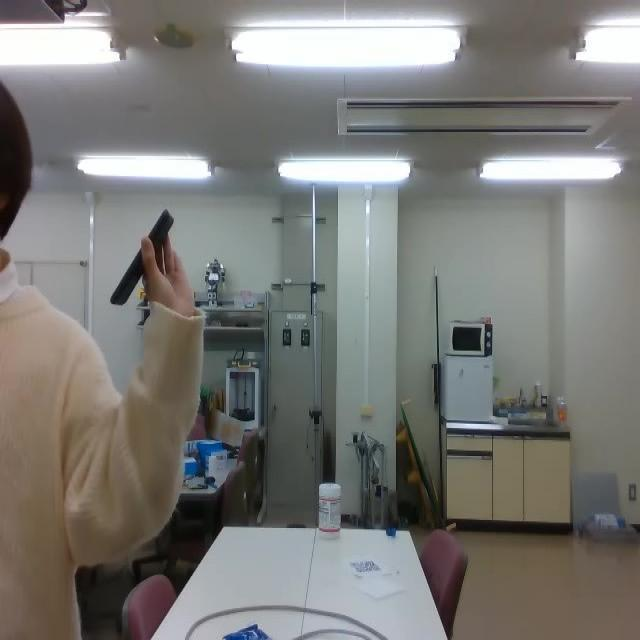Phone: (106, 209, 174, 311)
